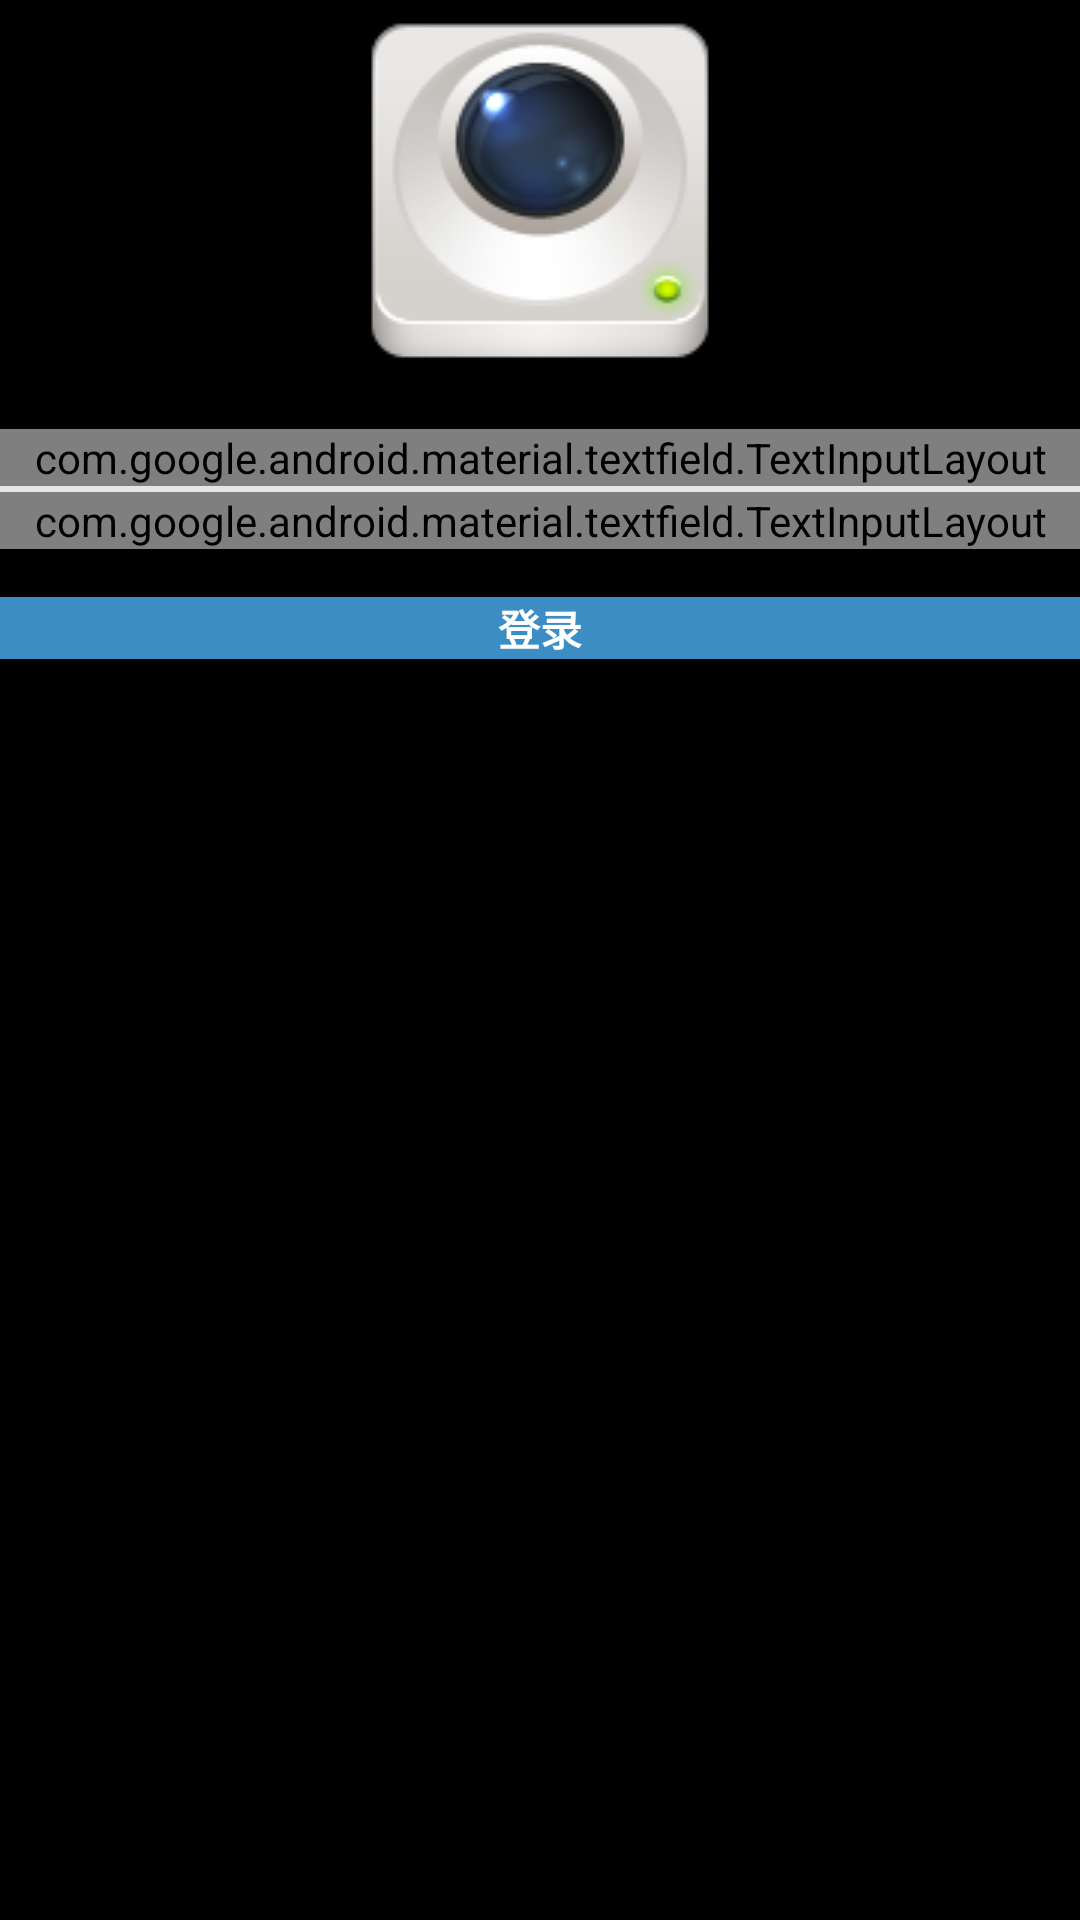

Icons on this 1080 × 1920 Android screen, each with its box as {"left": x1, "top": y1, "right": x2, "bottom": y2}:
webcam: {"left": 371, "top": 23, "right": 709, "bottom": 358}
